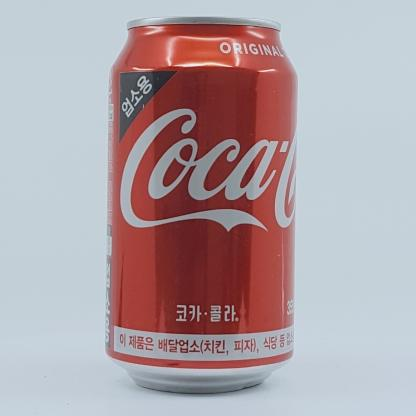----355ML: (105, 16, 298, 393)
